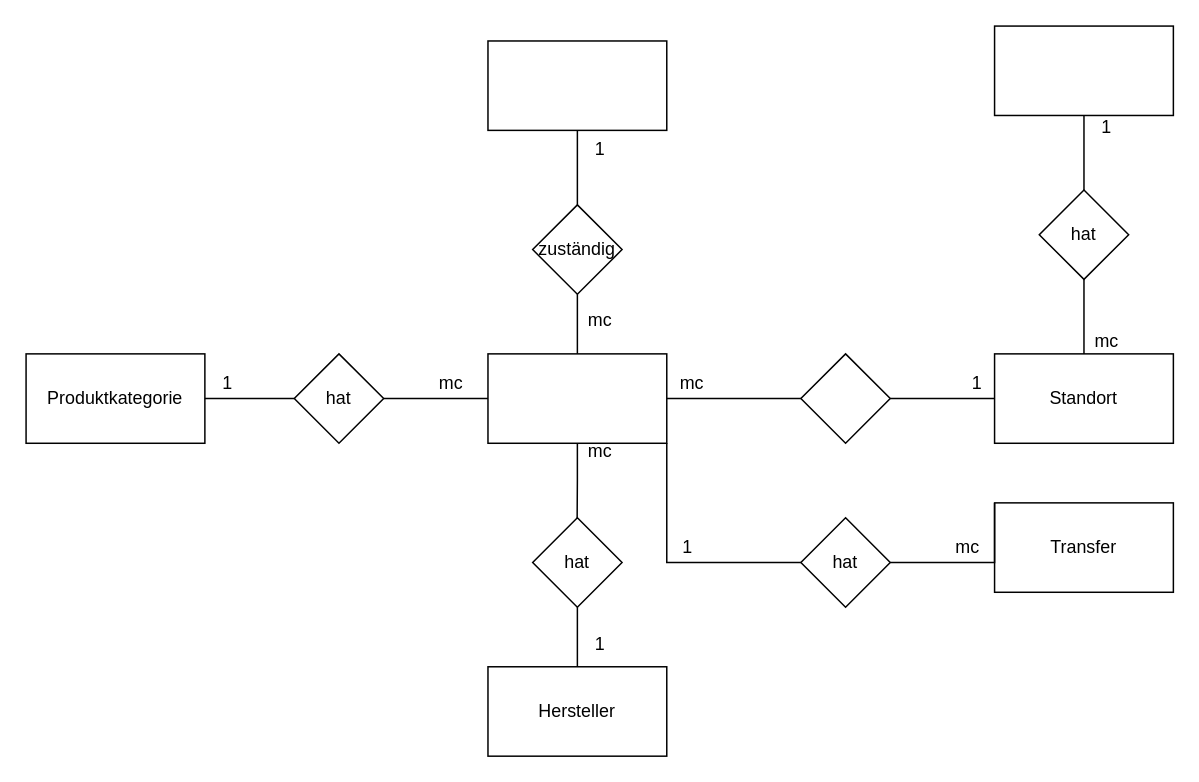
This 1199x782 diagram has some shape labels left out. Here are the shapes that lost their labels. From the top down, the box of each, then its label:
(486, 39, 667, 130): Mitarbeiter
(993, 25, 1173, 115): Land
(486, 352, 667, 443): Artikel
(799, 352, 890, 443): vorhanden in
